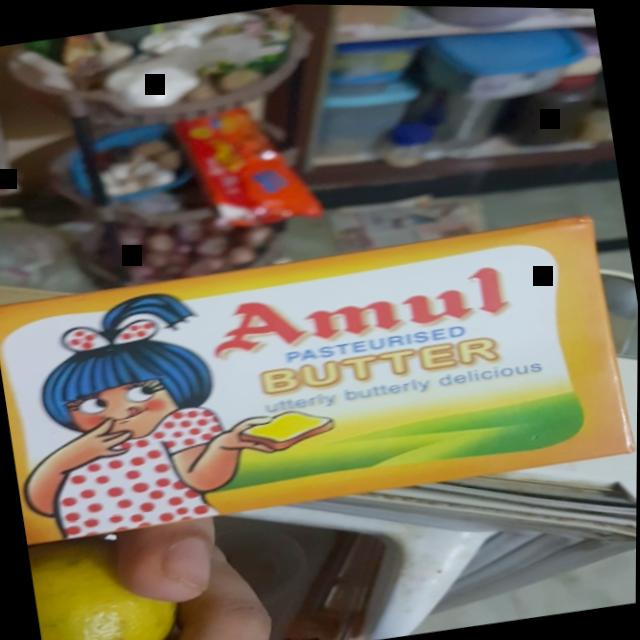butter: (0, 195, 639, 554)
